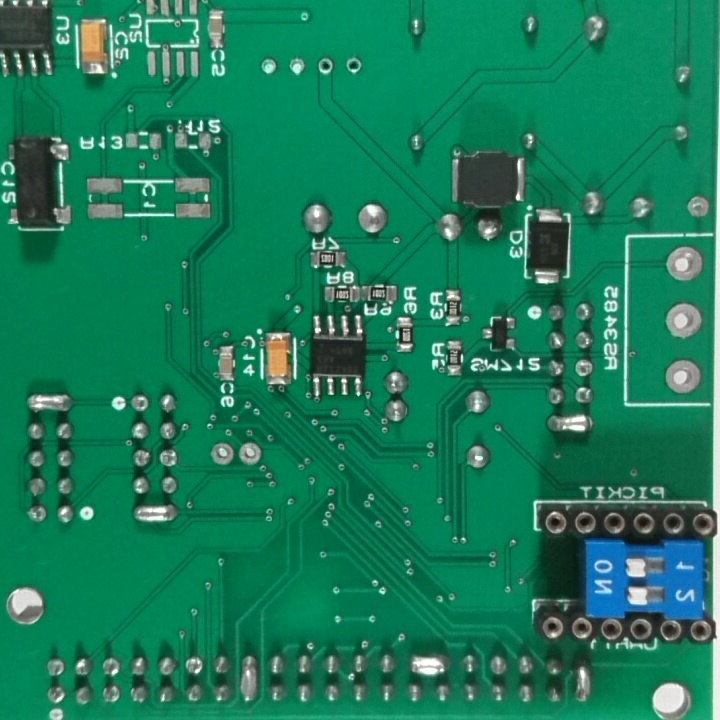F: (662, 298, 705, 344), (661, 243, 707, 284), (662, 355, 705, 398), (682, 192, 712, 223), (208, 438, 235, 469), (236, 440, 264, 469), (24, 501, 52, 528), (286, 54, 310, 80), (182, 655, 206, 681), (573, 357, 596, 383), (156, 445, 179, 470), (341, 55, 365, 76), (130, 393, 151, 415), (45, 687, 67, 708), (100, 687, 122, 708), (315, 54, 334, 78), (260, 56, 279, 75)
P: (406, 646, 453, 681), (545, 409, 596, 439), (21, 391, 80, 415), (129, 500, 179, 528), (570, 652, 593, 710), (239, 649, 260, 709)
